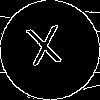X: (25, 25, 66, 76)
